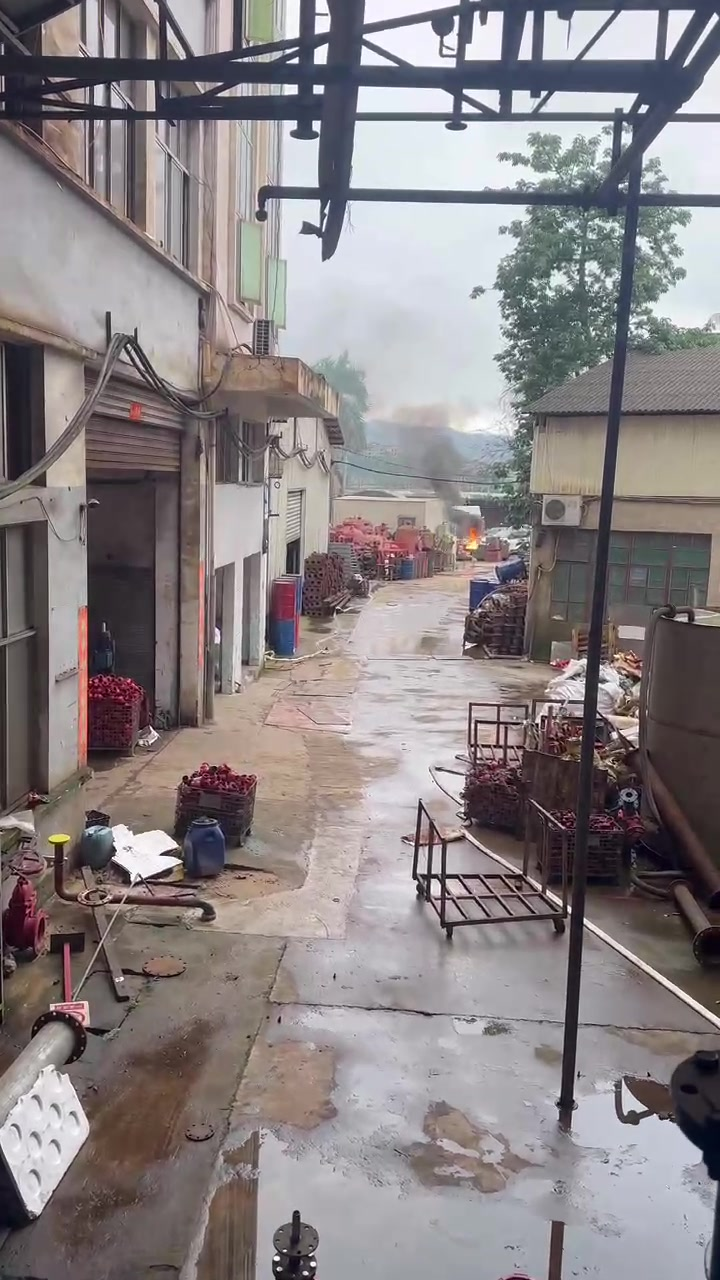fire: (465, 528, 478, 549)
